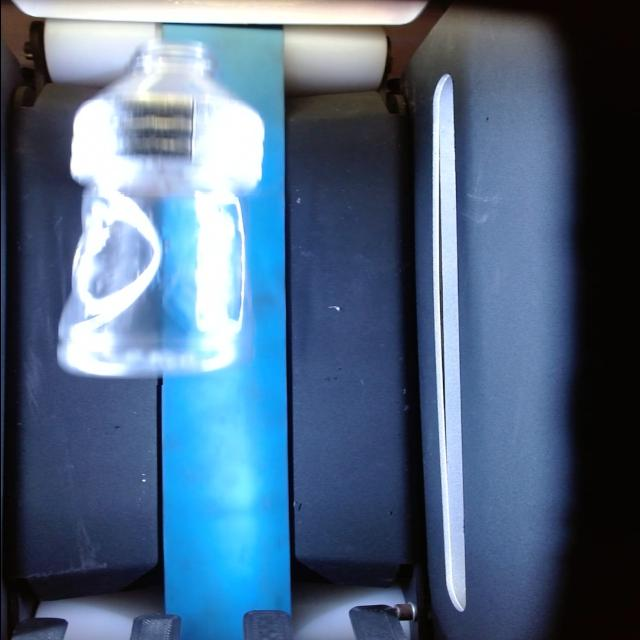bottom: (50, 197, 250, 385)
label: (61, 100, 271, 193)
neck: (70, 39, 257, 107)
